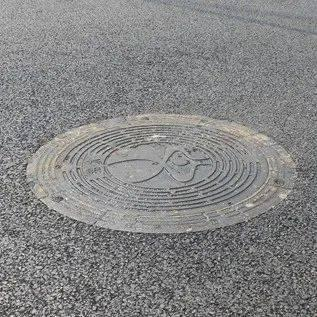wellcover: (27, 105, 287, 235)
